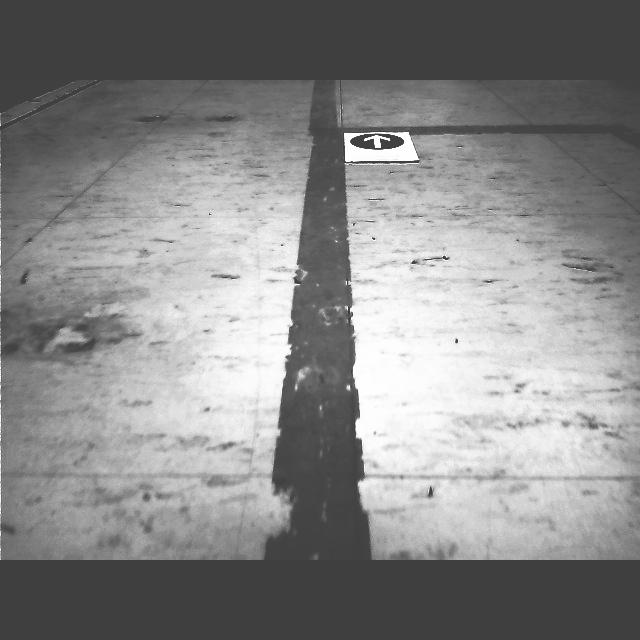GO FORWARD: (350, 133, 404, 149)
